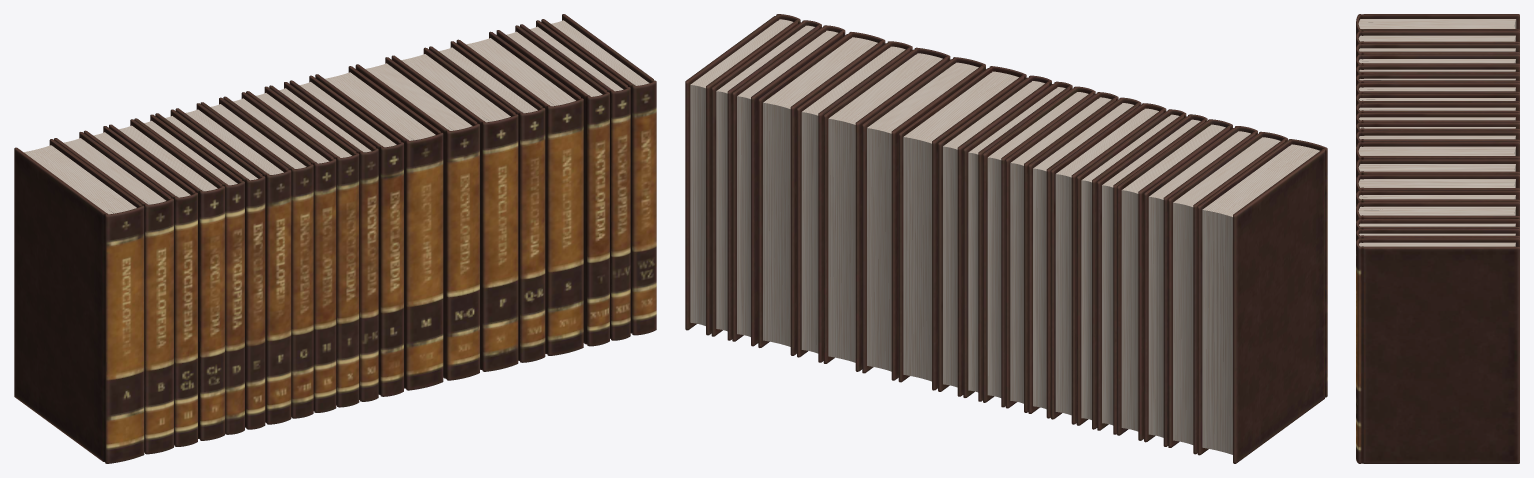
Rendered from book_encyclopedia_set_01_4k-v2.glb.
The picture shows the model from 3 angles, left to right: view 1: azimuth 30°, elevation 25°; view 2: azimuth 150°, elevation 25°; view 3: azimuth 270°, elevation 25°; orthographic projection. The views are drawn at different scales.
Parts seen in each view (by area): view 1: book_encyclopedia_set_01_book01, book_encyclopedia_set_01_book13, book_encyclopedia_set_01_book15, book_encyclopedia_set_01_book17, book_encyclopedia_set_01_book14, book_encyclopedia_set_01_book02, book_encyclopedia_set_01_book16, book_encyclopedia_set_01_book04, book_encyclopedia_set_01_book18, book_encyclopedia_set_01_book20, book_encyclopedia_set_01_book07, book_encyclopedia_set_01_book12 (+8 smaller); view 2: book_encyclopedia_set_01_book01, book_encyclopedia_set_01_book13, book_encyclopedia_set_01_book15, book_encyclopedia_set_01_book17, book_encyclopedia_set_01_book14, book_encyclopedia_set_01_book02, book_encyclopedia_set_01_book04, book_encyclopedia_set_01_book16, book_encyclopedia_set_01_book18, book_encyclopedia_set_01_book20, book_encyclopedia_set_01_book07, book_encyclopedia_set_01_book12 (+8 smaller); view 3: book_encyclopedia_set_01_book20, book_encyclopedia_set_01_book13, book_encyclopedia_set_01_book01, book_encyclopedia_set_01_book17, book_encyclopedia_set_01_book15, book_encyclopedia_set_01_book14, book_encyclopedia_set_01_book02, book_encyclopedia_set_01_book16, book_encyclopedia_set_01_book03, book_encyclopedia_set_01_book12, book_encyclopedia_set_01_book07, book_encyclopedia_set_01_book04 (+8 smaller).
Part boxes in pixels (<box>): book_encyclopedia_set_01_book01: <box>14,139,144,463</box>; book_encyclopedia_set_01_book13: <box>315,66,443,390</box>; book_encyclopedia_set_01_book15: <box>391,47,518,371</box>; book_encyclopedia_set_01_book17: <box>456,31,583,355</box>; book_encyclopedia_set_01_book14: <box>355,57,479,380</box>; book_encyclopedia_set_01_book02: <box>54,132,173,454</box>; book_encyclopedia_set_01_book16: <box>429,41,545,362</box>; book_encyclopedia_set_01_book04: <box>109,119,224,440</box>; book_encyclopedia_set_01_book18: <box>496,25,609,346</box>; book_encyclopedia_set_01_book20: <box>541,14,656,335</box>; book_encyclopedia_set_01_book07: <box>175,103,291,424</box>; book_encyclopedia_set_01_book12: <box>289,75,403,396</box>; book_encyclopedia_set_01_book01: <box>1197,139,1327,463</box>; book_encyclopedia_set_01_book13: <box>898,66,1026,390</box>; book_encyclopedia_set_01_book15: <box>823,47,950,371</box>; book_encyclopedia_set_01_book17: <box>758,32,885,355</box>; book_encyclopedia_set_01_book14: <box>862,57,985,380</box>; book_encyclopedia_set_01_book02: <box>1168,131,1287,454</box>; book_encyclopedia_set_01_book04: <box>1117,119,1232,440</box>; book_encyclopedia_set_01_book16: <box>797,41,912,362</box>; book_encyclopedia_set_01_book18: <box>732,25,845,346</box>; book_encyclopedia_set_01_book20: <box>685,14,800,335</box>; book_encyclopedia_set_01_book07: <box>1051,103,1166,424</box>; book_encyclopedia_set_01_book12: <box>938,75,1051,396</box>; book_encyclopedia_set_01_book20: <box>1356,238,1519,463</box>; book_encyclopedia_set_01_book13: <box>1356,142,1519,164</box>; book_encyclopedia_set_01_book01: <box>1356,14,1519,35</box>; book_encyclopedia_set_01_book17: <box>1356,202,1519,222</box>; book_encyclopedia_set_01_book15: <box>1356,174,1519,194</box>; book_encyclopedia_set_01_book14: <box>1356,159,1519,180</box>; book_encyclopedia_set_01_book02: <box>1356,30,1519,47</box>; book_encyclopedia_set_01_book16: <box>1356,190,1519,208</box>; book_encyclopedia_set_01_book03: <box>1356,43,1519,58</box>; book_encyclopedia_set_01_book12: <box>1356,131,1519,148</box>; book_encyclopedia_set_01_book07: <box>1356,82,1519,96</box>; book_encyclopedia_set_01_book04: <box>1356,54,1519,68</box>.
Bounding box in the file's own units: 0.5513 × 0.2374 × 0.1631.
2 materials, 2 textured.
